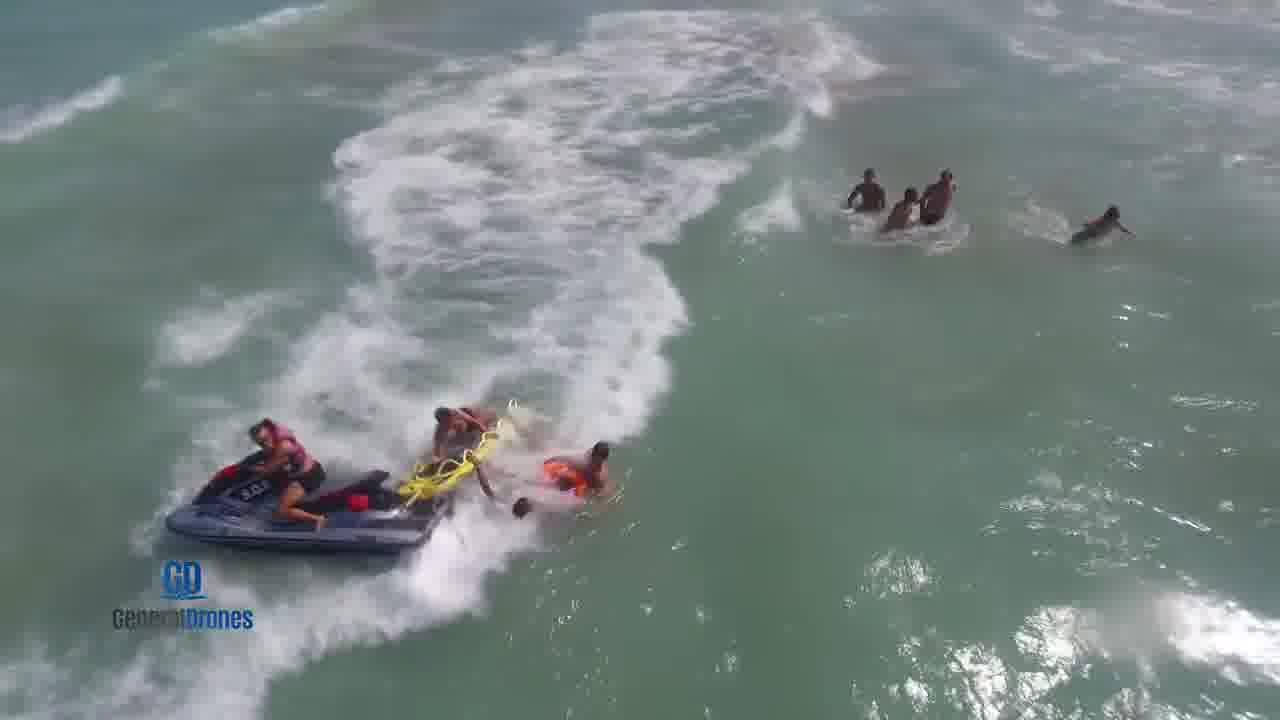human: (472, 468, 564, 532), (576, 415, 635, 486), (525, 438, 593, 497)
